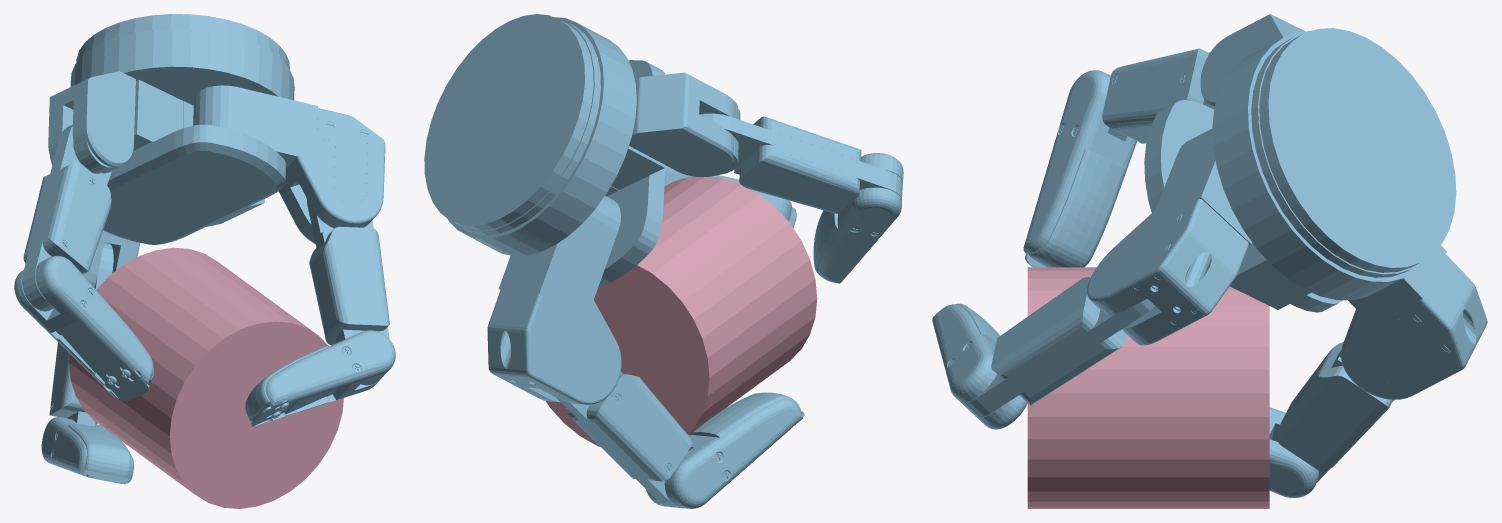
3 renders of one model, left to right at view 1: azimuth 30°, elevation 25°; view 2: azimuth 150°, elevation 25°; view 3: azimuth 270°, elevation 25°, orthographic. The views are drawn at different scales.
Parts seen in each view (by area): view 1: world; view 2: world; view 3: world.
Boxes of the visible parts, x1=… form: world: x1=14, y1=14, x2=395, y2=508; world: x1=424, y1=14, x2=903, y2=508; world: x1=932, y1=14, x2=1487, y2=508.
Size of the model in its own units: 0.1767 by 0.188 by 0.1836.
